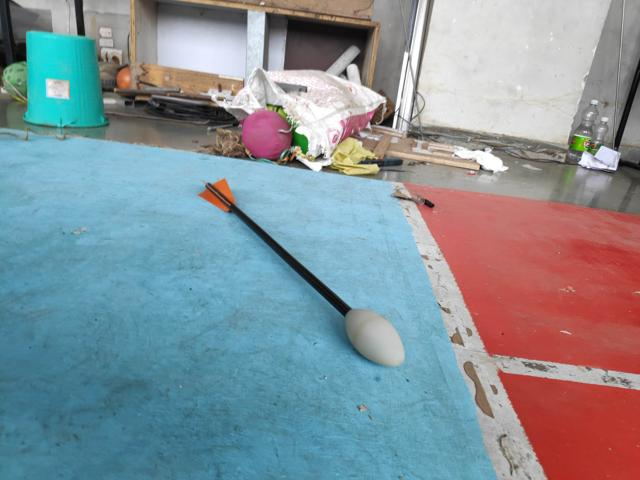Head: (341, 303, 409, 369)
Tail: (198, 176, 241, 217)
